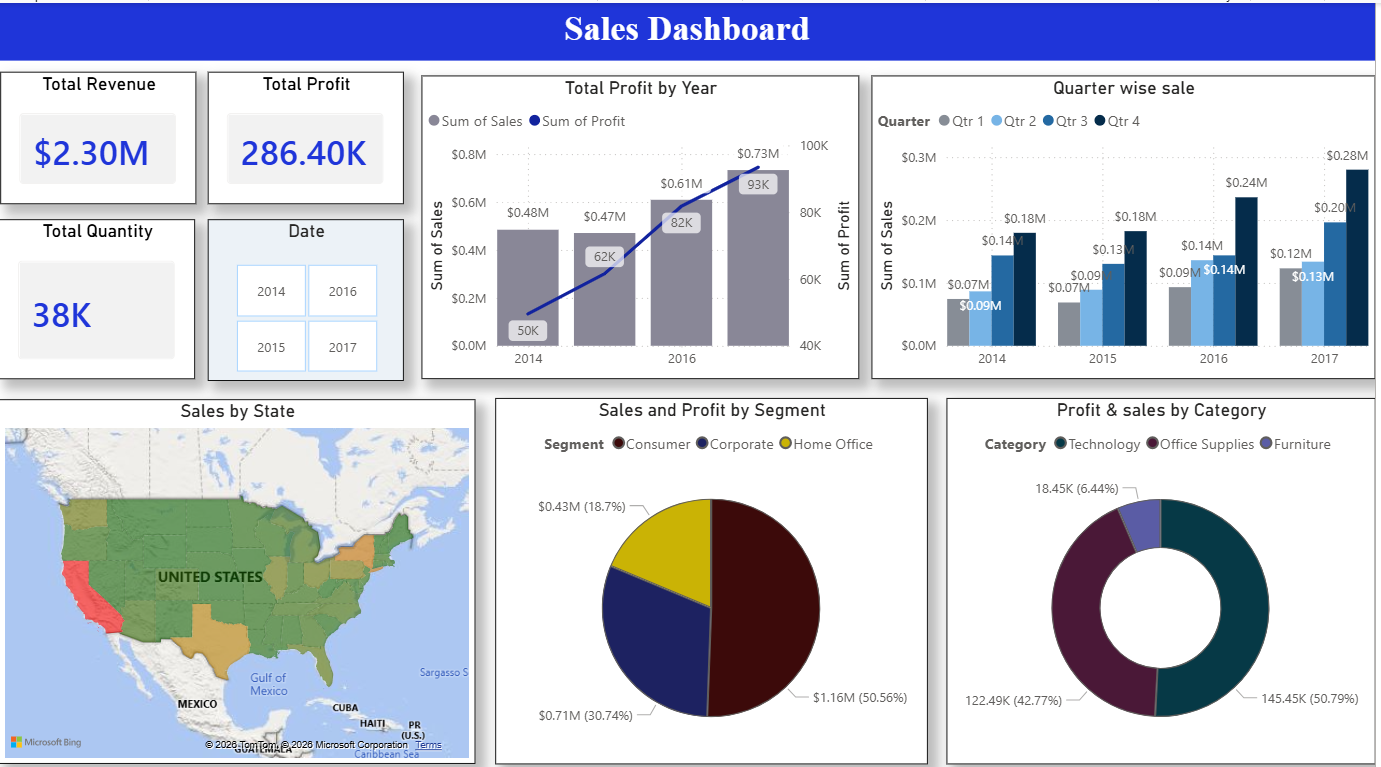

Layout of this report page (visuals, bound fields, positions):
{"tool":"powerbi","page":{"name":"Overall Sales","canvas":[1280,720],"ordinal":0},"visuals":[{"type":"textbox","box":[0,0,1280.2,53.5],"z":0},{"type":"cardVisual","title":"Total Revenue","fields":{"Data":["Sum(Superstore.Sales)"]},"box":[1.2,64,182.6,123.3],"z":1000},{"type":"cardVisual","title":"Total Profit","fields":{"Data":["Sum(Superstore.Profit)"]},"box":[194.2,64,182.6,123.3],"z":2000},{"type":"cardVisual","title":"Total Quantity","fields":{"Data":["Sum(Superstore.Quantity)"]},"box":[0,201.2,182.6,148.8],"z":3000},{"type":"slicer","title":"Date","fields":{"Values":["Superstore.Ord Year"]},"box":[194.2,201.2,182.6,150],"z":4000},{"type":"lineStackedColumnComboChart","title":"Total Profit by Year","fields":{"Category":["Superstore.Order Date.Variation.Date Hierarchy.Year","Superstore.Order Date.Variation.Date Hierarchy.Quarter","Superstore.Order Date.Variation.Date Hierarchy.Month","Superstore.Order Date.Variation.Date Hierarchy.Day"],"Y":["Sum(Superstore.Sales)"],"Y2":["Sum(Superstore.Profit)"]},"box":[393,67.4,407,282.6],"z":5000},{"type":"clusteredColumnChart","title":"Quarter wise sale","fields":{"Category":["Superstore.Ord Year"],"Y":["Sum(Superstore.Sales)"],"Series":["Superstore.Quarter"]},"box":[811.6,67.4,468.6,282.6],"z":6000},{"type":"filledMap","title":"Sales by State","fields":{"Category":["Superstore.State"]},"box":[0,368.6,443,339.5],"z":7000},{"type":"donutChart","title":"Sales and Profit by Segment","fields":{"Category":["Superstore.Segment"],"Y":["Sum(Superstore.Sales)"]},"box":[461.6,367.4,402.3,340.7],"z":8000},{"type":"pieChart","title":"Profit & sales by Category","fields":{"Category":["Superstore.Category"],"Y":["Sum(Superstore.Profit)"]},"box":[881.4,367.4,398.8,340.7],"z":9000}]}

Visuals, with their boxes in screenshot pixels (x1, y1, x2, y2), scaled from the page's 1280x720 canvas onto the 1381x767 screenshot:
textbox: <box>0,0,1380,57</box>
"Total Revenue" cardVisual: <box>1,68,198,200</box>
"Total Profit" cardVisual: <box>210,68,407,200</box>
"Total Quantity" cardVisual: <box>0,214,197,373</box>
"Date" slicer: <box>210,214,407,374</box>
"Total Profit by Year" lineStackedColumnComboChart: <box>424,72,863,373</box>
"Quarter wise sale" clusteredColumnChart: <box>876,72,1380,373</box>
"Sales by State" filledMap: <box>0,393,478,754</box>
"Sales and Profit by Segment" donutChart: <box>498,391,932,754</box>
"Profit & sales by Category" pieChart: <box>951,391,1380,754</box>
